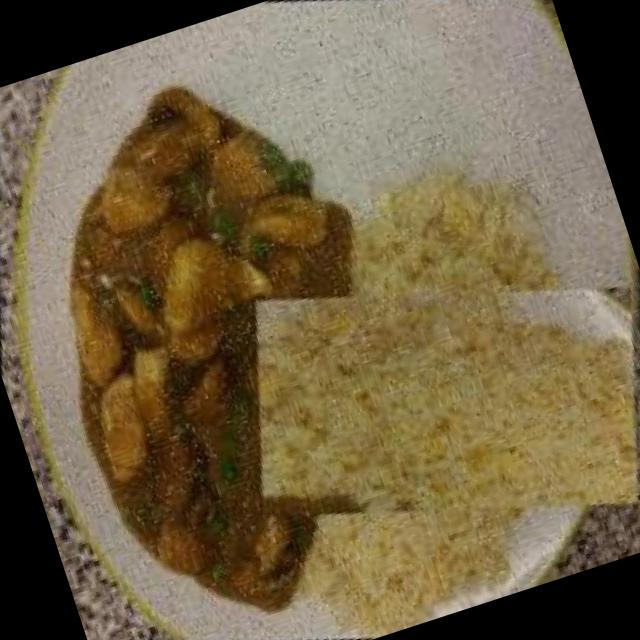curry: (0, 24, 479, 640)
rice: (215, 169, 640, 632)
